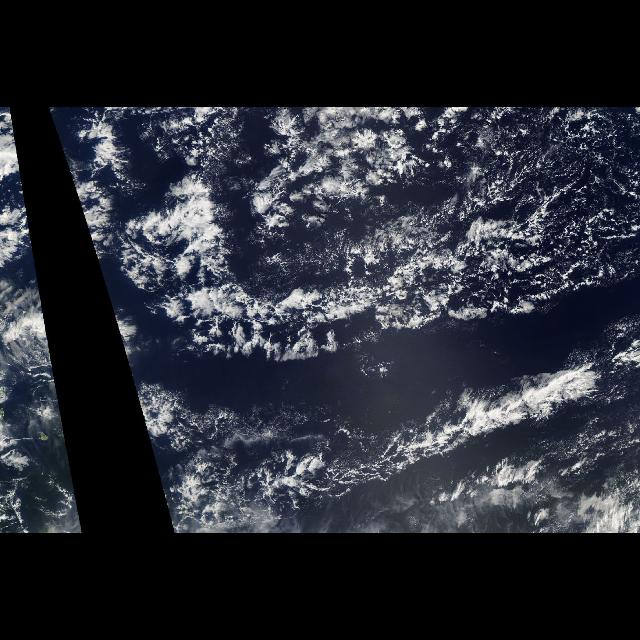Fish: (118, 238, 638, 504)
Gravel: (152, 111, 636, 347)
